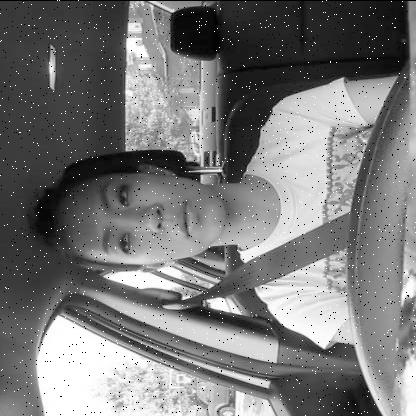seatbelt: (24, 129, 368, 316)
